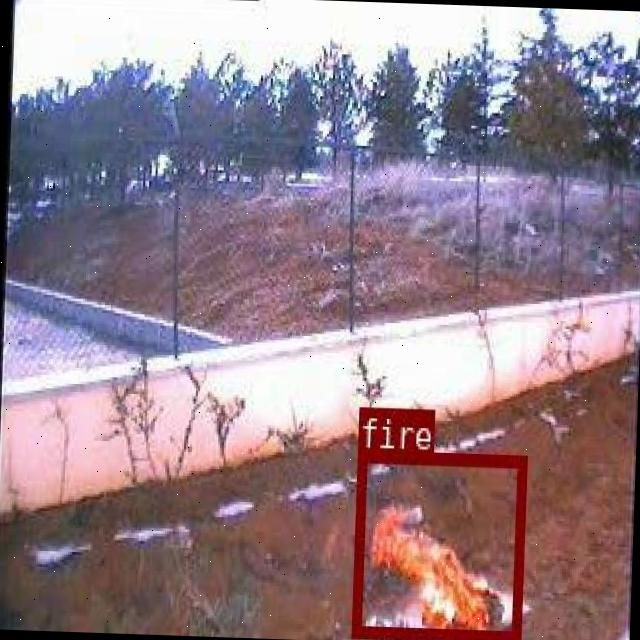fire: (350, 447, 524, 640)
